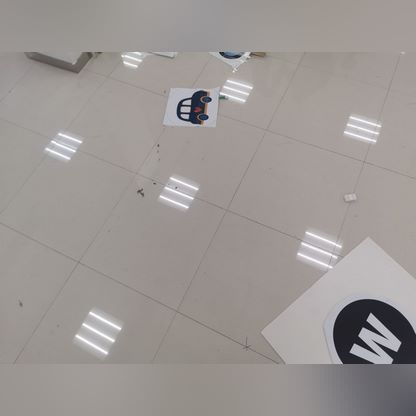W: (324, 296, 414, 368)
car: (155, 83, 230, 132)
